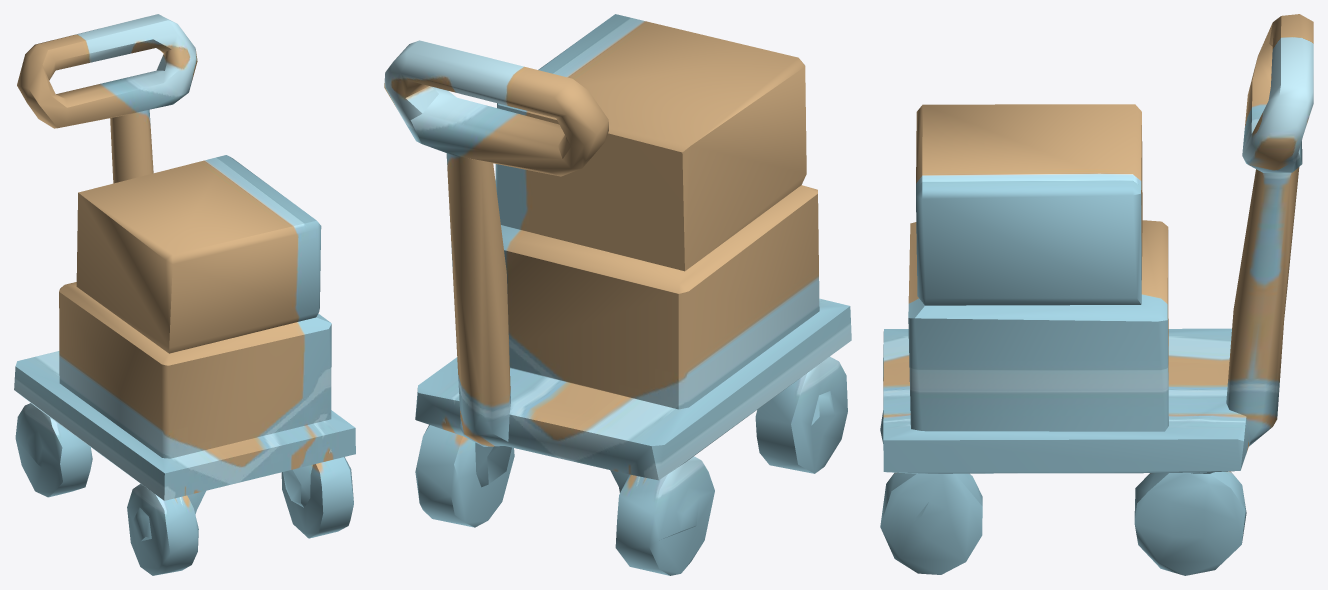
The picture shows the model from 3 angles, left to right: view 1: azimuth 30°, elevation 25°; view 2: azimuth 150°, elevation 25°; view 3: azimuth 270°, elevation 25°; orthographic projection. The views are drawn at different scales.
Visible parts, largest first — view 1: Decor_hand_truck_b; view 2: Decor_hand_truck_b; view 3: Decor_hand_truck_b.
Boxes of the visible parts, left/top/right/bottom form: Decor_hand_truck_b: left=14, top=14, right=355, bottom=575; Decor_hand_truck_b: left=384, top=14, right=851, bottom=575; Decor_hand_truck_b: left=880, top=14, right=1313, bottom=575.
Size of the model in its own units: 0.6678 by 1.29 by 1.06.
Materials: 1 (1 with a texture image).
